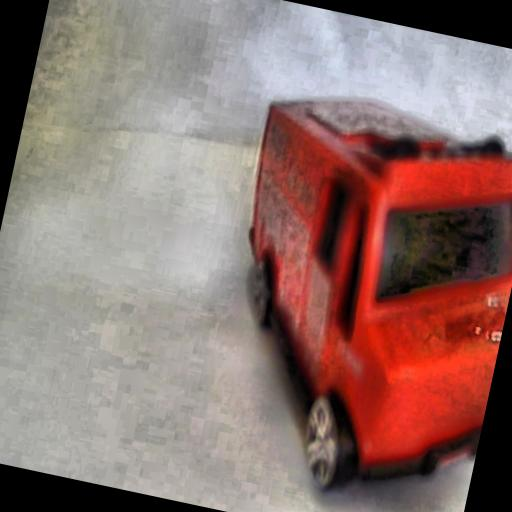fire_truck: (174, 57, 512, 512), (250, 106, 350, 236)
